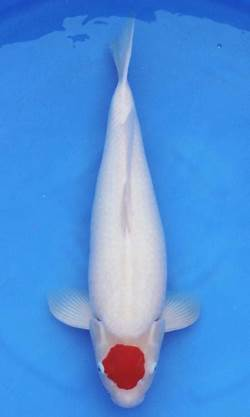sun: (48, 17, 204, 408)
